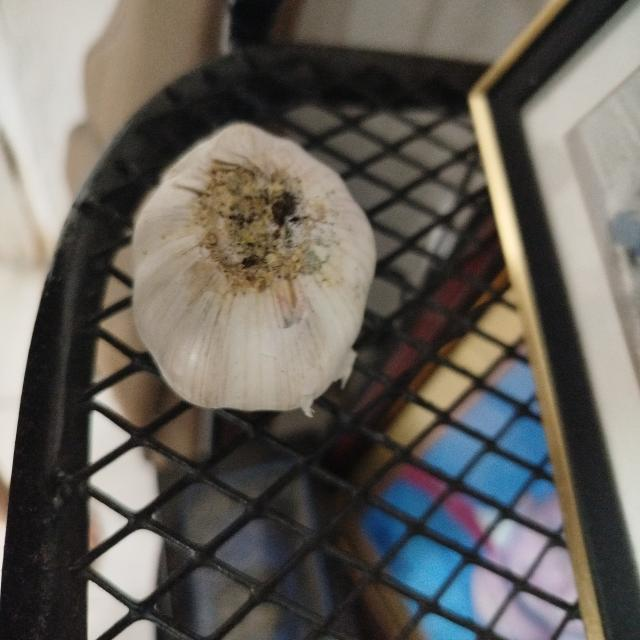garlic: (130, 120, 377, 418)
